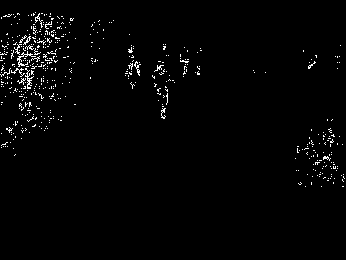person: (152, 60, 175, 120), (125, 44, 141, 90), (179, 45, 192, 77), (195, 47, 202, 75)
